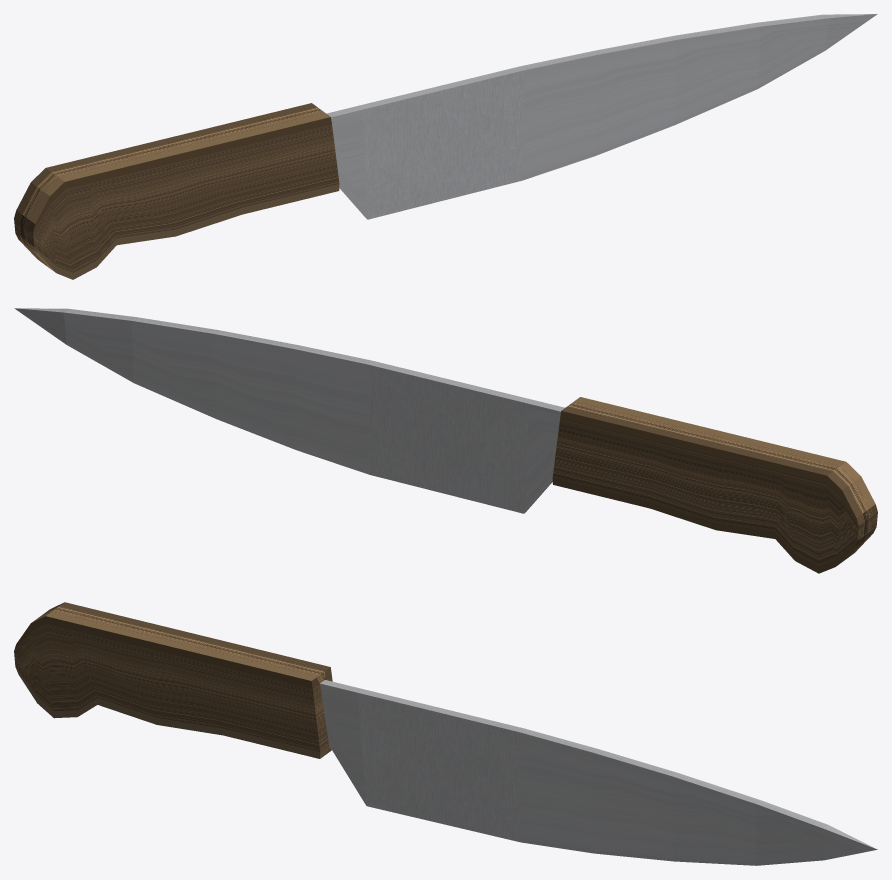
Rendered from pisau.glb.
3 views of the same model, one above another, from view 1: azimuth 30°, elevation 25°; view 2: azimuth 150°, elevation 25°; view 3: azimuth 330°, elevation 25° (orthographic).
Parts seen in each view (by area): view 1: Cube; view 2: Cube; view 3: Cube.
Boxes of the visible parts, <box> form: Cube: <box>14,14,877,279</box>; Cube: <box>14,308,877,573</box>; Cube: <box>14,602,877,865</box>.
Size of the model in its own units: 0.6938 by 0.0935 by 0.0269.
Materials: 2 (2 with a texture image).
